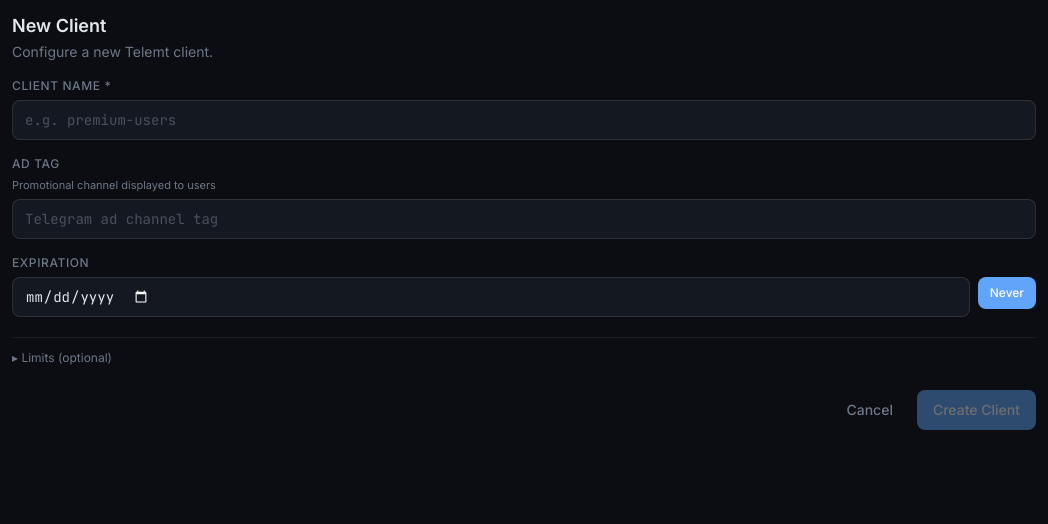
Test case: ClientFormSheet › exposes aria-expanded + aria-controls on the Limits toggle (P2-FE-07 / M-F6)
The image size is (1048, 524).
Click the button "▸ Limits (optional)" at (65, 358), box [12, 337, 1036, 366]
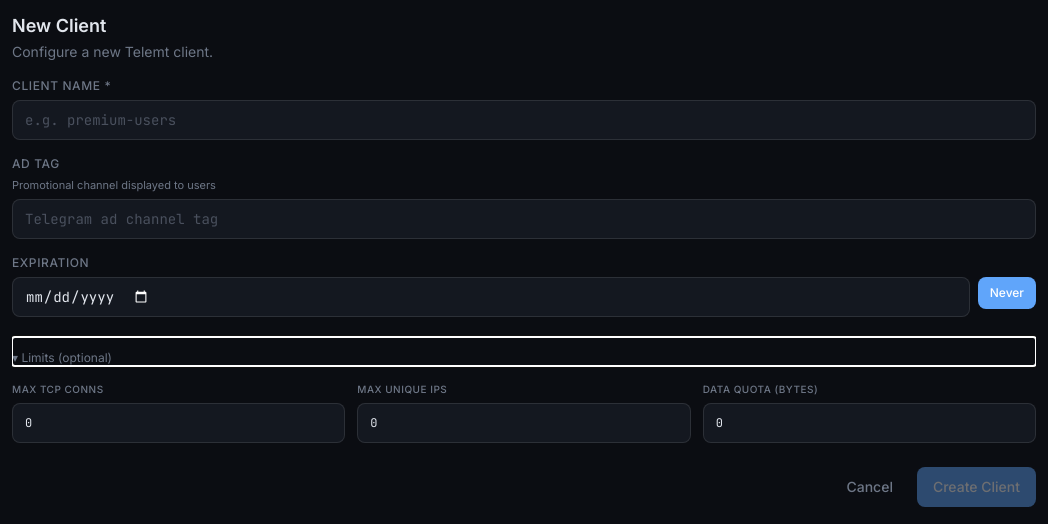
Now the element with id "client-form-limits-section" is shown, box [12, 382, 1036, 443]
